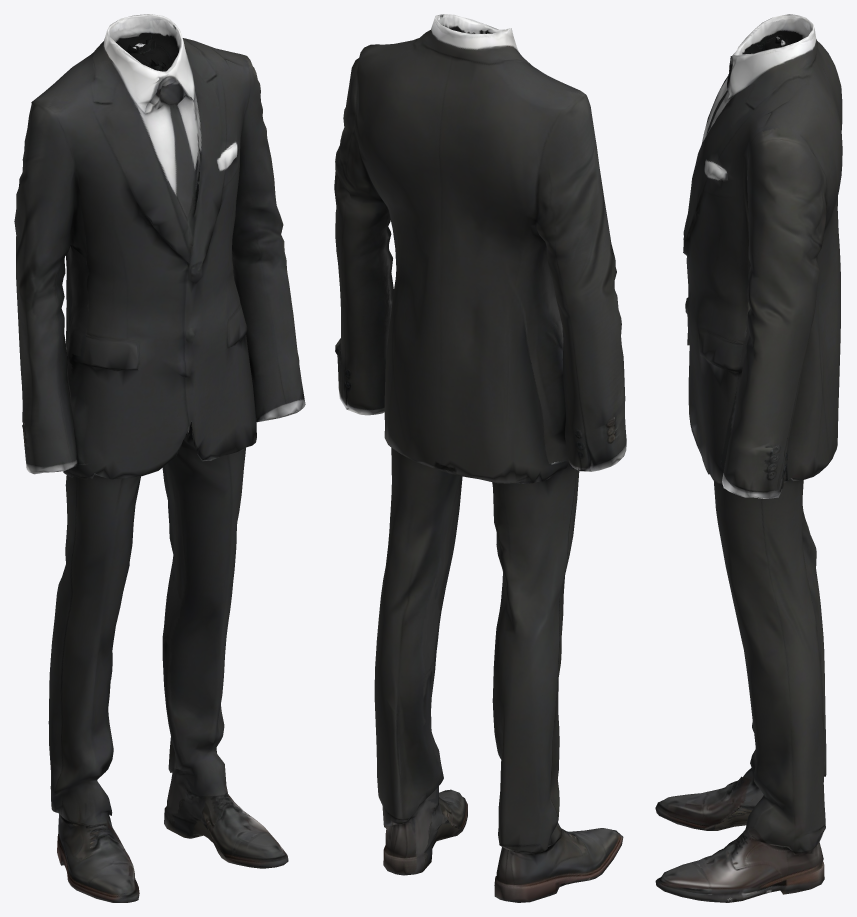
Rendered from suit_1.glb.
3 renders of one model, left to right at view 1: azimuth 30°, elevation 25°; view 2: azimuth 150°, elevation 25°; view 3: azimuth 270°, elevation 25°, orthographic. The views are drawn at different scales.
Size of the model in its own units: 0.6915 by 1.99 by 0.409.
Materials: 1 (1 with a texture image).
